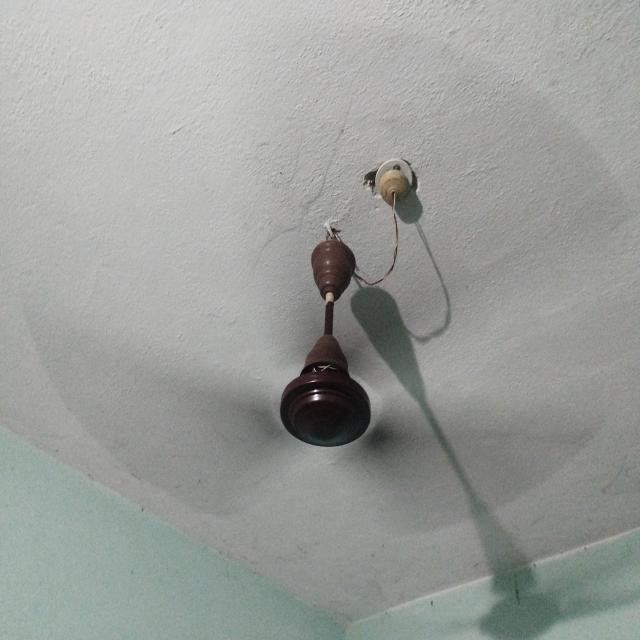fan_on: (27, 34, 640, 530)
